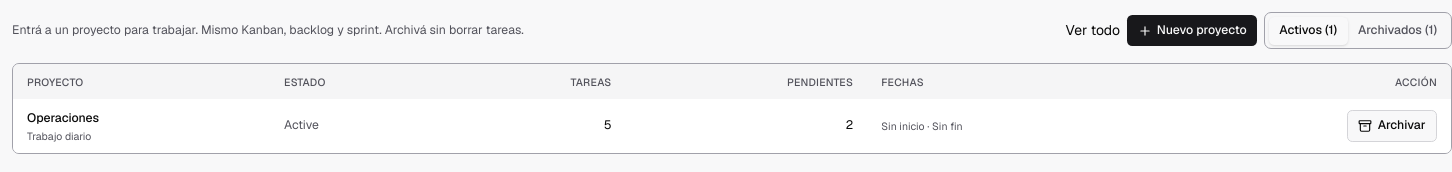
it: ProjectManagementPage › separa proyectos activos y archivados
Expected: the text "Operaciones" is shown, [27,110,99,126]
Expected: the text "Campaña 2025" is not shown
Step 1. Click the tab "Archivados (1)" → (1398, 30), box [1348,16,1448,44]
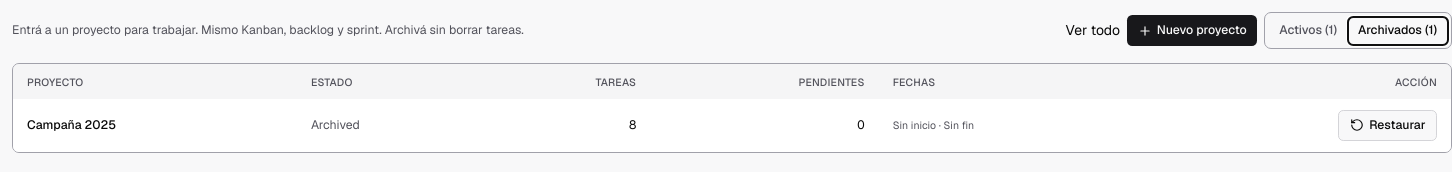
Now the text "Campaña 2025" is shown, box [27,116,116,132]
Now the text "Operaciones" is gone
